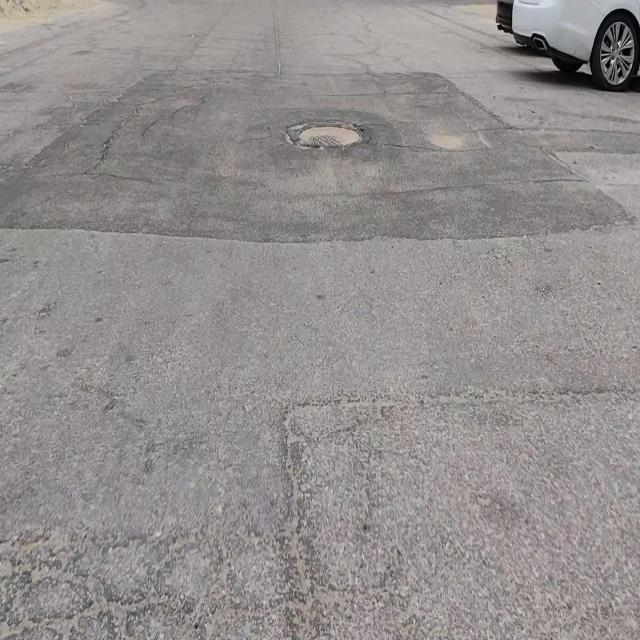Potholes: (293, 123, 364, 147)
